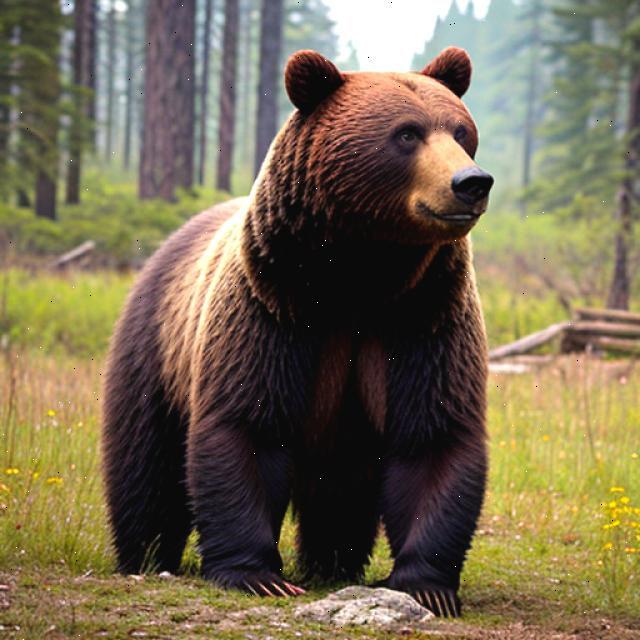bear: (79, 41, 497, 603)
